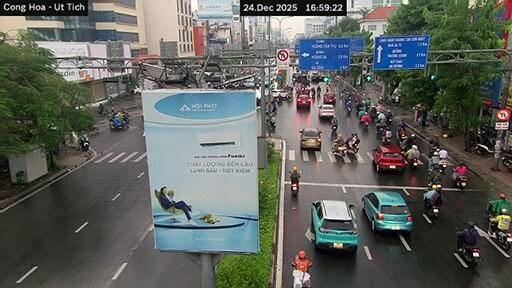motorbike: (488, 222, 511, 250), (457, 243, 480, 266), (292, 262, 310, 287), (332, 144, 358, 156), (474, 140, 494, 154), (290, 172, 301, 196), (424, 202, 439, 218), (501, 151, 511, 171), (453, 175, 467, 189), (109, 120, 128, 130), (332, 144, 347, 156), (79, 134, 89, 151), (346, 143, 358, 153), (429, 144, 438, 156), (438, 159, 447, 171), (266, 121, 275, 132), (291, 182, 298, 196), (409, 158, 418, 168), (97, 103, 105, 114), (382, 135, 390, 145), (386, 115, 393, 125), (360, 121, 369, 128), (331, 124, 338, 133), (276, 97, 283, 105), (286, 93, 292, 101), (346, 106, 351, 113)
